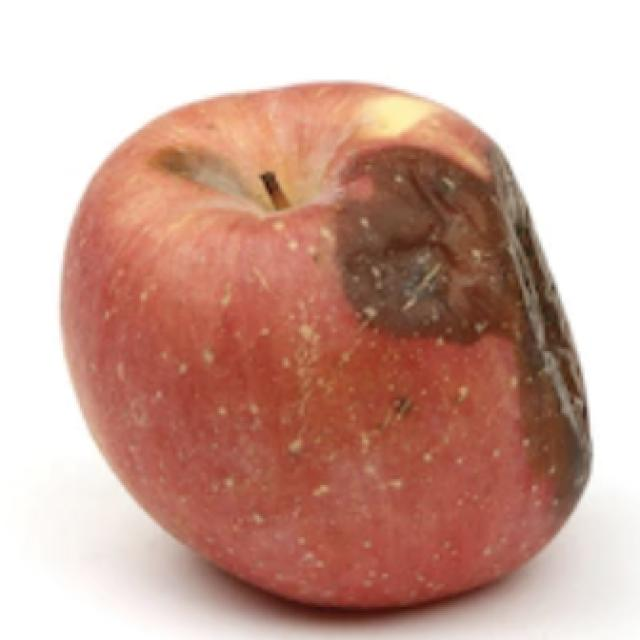rotten_apple: (60, 76, 590, 620)
